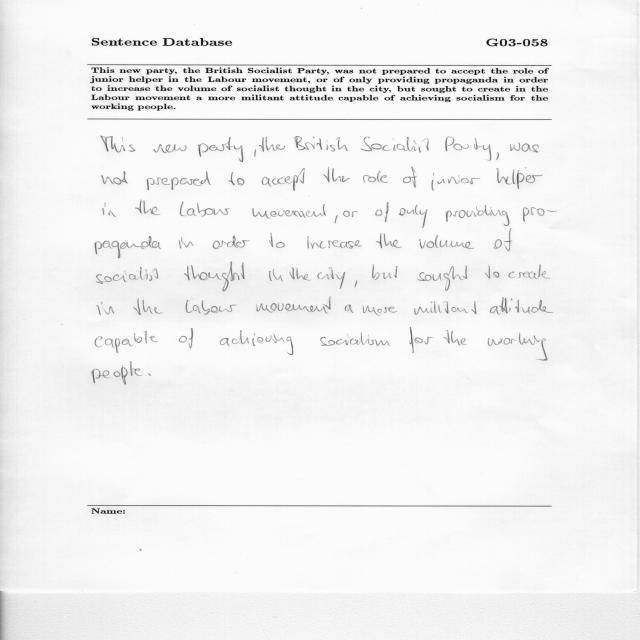word: (446, 205, 557, 226), (220, 330, 294, 355), (184, 262, 245, 291), (488, 333, 548, 361), (95, 236, 161, 258), (95, 331, 159, 353), (418, 265, 468, 291), (256, 297, 331, 314), (146, 172, 211, 191), (92, 362, 143, 385), (490, 297, 553, 315), (198, 137, 243, 162), (252, 204, 326, 219), (446, 137, 492, 161), (361, 137, 429, 153), (97, 267, 158, 284), (496, 167, 543, 189), (261, 168, 305, 191), (320, 332, 390, 346), (414, 301, 477, 315), (295, 136, 348, 152), (432, 173, 481, 190), (419, 235, 474, 249), (186, 300, 237, 315), (180, 202, 230, 217), (307, 236, 362, 249), (399, 204, 427, 228), (508, 265, 550, 280), (410, 327, 434, 353), (318, 267, 346, 289), (101, 136, 136, 152), (133, 298, 163, 315), (213, 236, 250, 249), (372, 264, 398, 280), (324, 167, 351, 182), (494, 229, 512, 251), (259, 137, 285, 152), (376, 233, 402, 248), (135, 200, 160, 215), (102, 171, 128, 185), (443, 330, 467, 345), (363, 306, 397, 316), (510, 142, 539, 153), (153, 144, 187, 153), (363, 171, 388, 183), (403, 167, 417, 188), (375, 202, 389, 222), (179, 328, 193, 348), (290, 268, 311, 281), (269, 233, 285, 248), (98, 302, 115, 315), (229, 172, 245, 185), (485, 266, 500, 279), (103, 203, 116, 217), (178, 238, 194, 249), (269, 269, 283, 281), (343, 211, 358, 217), (345, 304, 354, 313), (335, 215, 338, 224), (496, 152, 499, 160), (355, 280, 358, 288), (254, 149, 256, 157), (148, 374, 151, 376)
